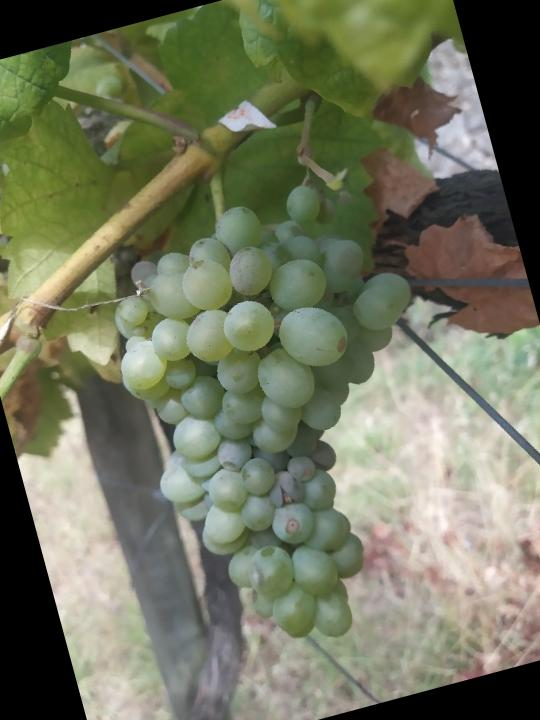grape: (86, 162, 498, 679)
